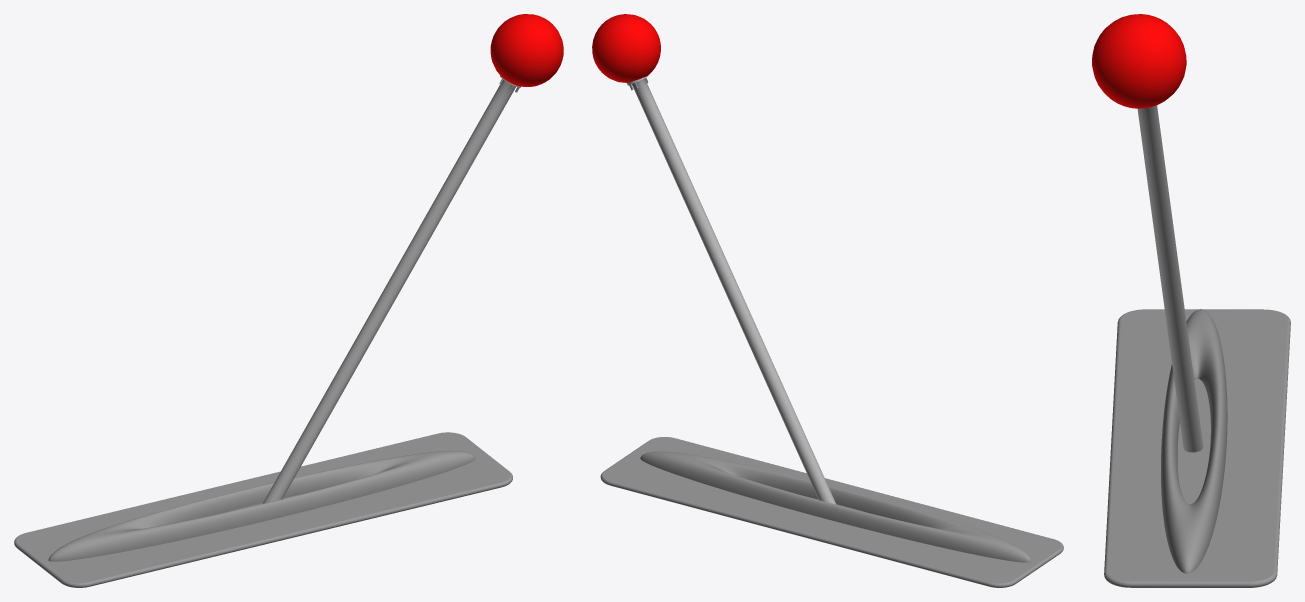
The model's file is Lever_2025-09-19_15.31.34.gltf.
3 views of the same model, side by side, from view 1: azimuth 30°, elevation 25°; view 2: azimuth 150°, elevation 25°; view 3: azimuth 270°, elevation 25° (orthographic). The views are drawn at different scales.
Parts seen in each view (by area): view 1: Backplate, Torus, Pipe Straight, Sphere; view 2: Backplate, Torus, Pipe Straight, Sphere; view 3: Backplate, Torus, Pipe Straight, Sphere.
Boxes of the visible parts, x1=… form: Backplate: x1=14, y1=432, x2=512, y2=587; Torus: x1=48, y1=451, x2=475, y2=561; Pipe Straight: x1=262, y1=75, x2=520, y2=503; Sphere: x1=490, y1=14, x2=563, y2=86; Backplate: x1=600, y1=437, x2=1063, y2=587; Torus: x1=640, y1=451, x2=1031, y2=562; Pipe Straight: x1=626, y1=76, x2=836, y2=504; Sphere: x1=592, y1=14, x2=660, y2=82; Backplate: x1=1104, y1=309, x2=1290, y2=587; Torus: x1=1161, y1=309, x2=1227, y2=573; Pipe Straight: x1=1137, y1=105, x2=1203, y2=452; Sphere: x1=1092, y1=14, x2=1186, y2=108.
Size of the model in its own units: 0.6323 by 0.5673 by 0.1701.
4 materials, 1 textured.
